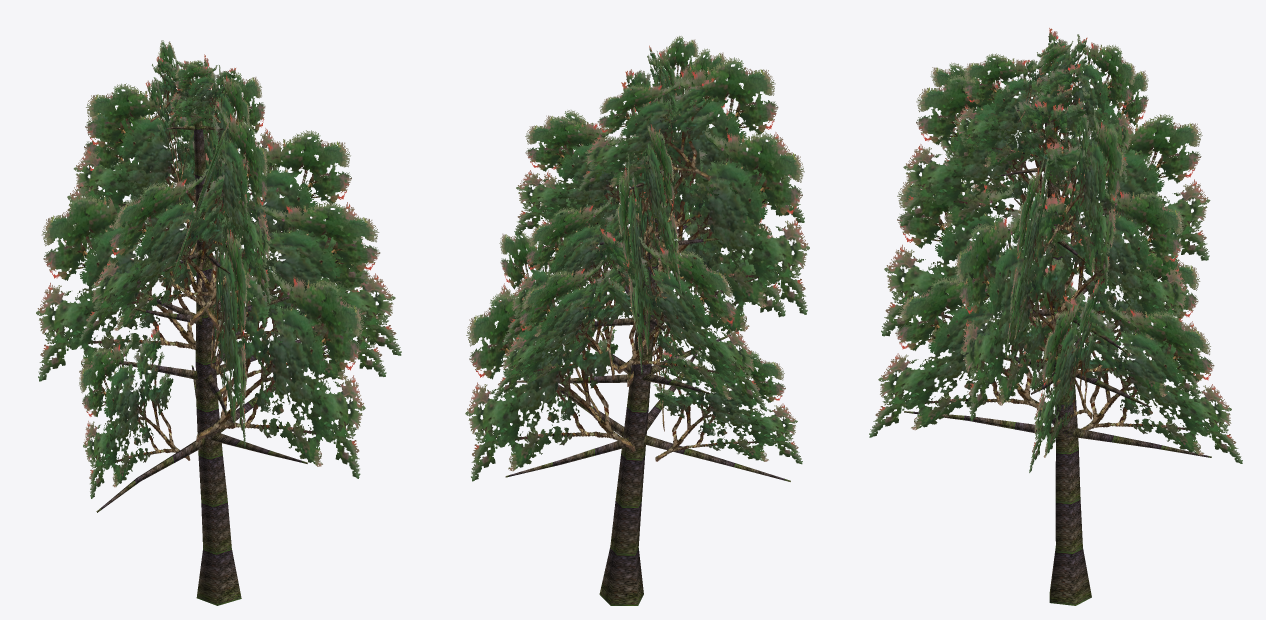
Rendered from grave_tree_lod2.glb.
3 views of the same model, side by side, from view 1: azimuth 30°, elevation 25°; view 2: azimuth 150°, elevation 25°; view 3: azimuth 270°, elevation 25° (orthographic).
Visible parts, largest first — view 1: grave_tree_lod2; view 2: grave_tree_lod2; view 3: grave_tree_lod2.
Boxes of the visible parts, x1,y1,x2,y2 form: grave_tree_lod2: (36, 40, 401, 605); grave_tree_lod2: (465, 36, 809, 605); grave_tree_lod2: (869, 28, 1242, 605).
Size of the model in its own units: 28.26 by 45.44 by 29.81.
Materials: 2 (2 with a texture image).
